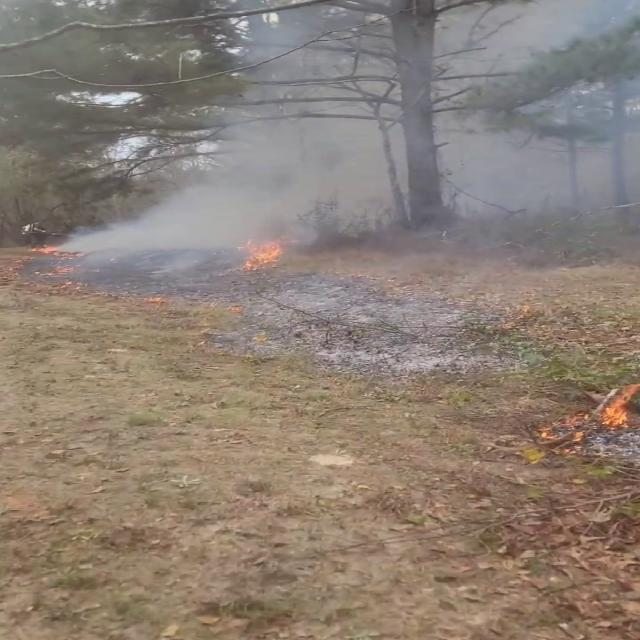Fire: (592, 376, 639, 432), (235, 233, 289, 273)
Smoke: (61, 0, 637, 297)
